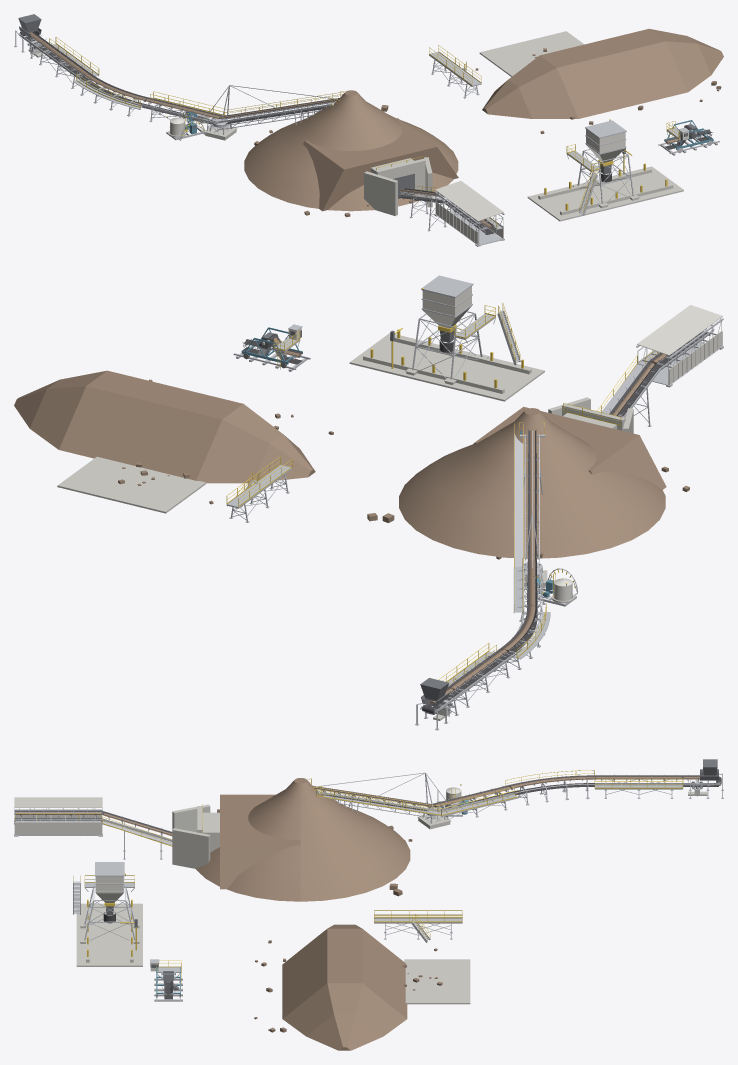
Rendered from ore-processing-and-haulage-plant-stacker-and-stockpile-4a1f44e4.glb.
3 views of the same model, one above another, from view 1: azimuth 30°, elevation 25°; view 2: azimuth 150°, elevation 25°; view 3: azimuth 270°, elevation 25° (orthographic). The views are drawn at different scales.
Parts seen in each view (by area): view 1: 009-product-stockpile/0, 005-coarse-ore-stockpile/0, 006-reclaim-tunnel-entrance/2, 012-truck-loadout/0, 006-reclaim-tunnel-entrance/0, 004-radial-stacker/boom (×3), 007-conveyor-gallery-bridge/5, 012-truck-loadout/2, 009-product-stockpile/1, 007-conveyor-gallery-bridge/0, 012-truck-loadout/3, 011-conveyor-walkway-module/0 (+10 smaller); view 2: 005-coarse-ore-stockpile/0, 009-product-stockpile/0, 012-truck-loadout/0, 009-product-stockpile/1, 006-reclaim-tunnel-entrance/2, 012-truck-loadout/2, 007-conveyor-gallery-bridge/5, 004-radial-stacker/boom, 006-reclaim-tunnel-entrance/0, 012-truck-loadout/3, 011-conveyor-walkway-module/0, 007-conveyor-gallery-bridge/0 (+5 smaller); view 3: 005-coarse-ore-stockpile/0, 009-product-stockpile/0, 006-reclaim-tunnel-entrance/2, 012-truck-loadout/0, 009-product-stockpile/1, 006-reclaim-tunnel-entrance/0, 007-conveyor-gallery-bridge/5, 004-radial-stacker/boom (×2), 012-truck-loadout/2, 011-conveyor-walkway-module/0, 001-conveyor-straight-12m/0, 011-conveyor-walkway-module/1 (+7 smaller).
Part boxes in pixels (x1=…): 009-product-stockpile/0: x1=475, y1=28, x2=723, y2=133; 005-coarse-ore-stockpile/0: x1=244, y1=90, x2=458, y2=217; 006-reclaim-tunnel-entrance/2: x1=303, y1=118, x2=458, y2=211; 012-truck-loadout/0: x1=527, y1=166, x2=683, y2=221; 006-reclaim-tunnel-entrance/0: x1=364, y1=157, x2=432, y2=216; 004-radial-stacker/boom (×3): x1=197, y1=85, x2=345, y2=129; 007-conveyor-gallery-bridge/5: x1=435, y1=181, x2=503, y2=244; 012-truck-loadout/2: x1=566, y1=120, x2=634, y2=215; 009-product-stockpile/1: x1=479, y1=31, x2=584, y2=76; 007-conveyor-gallery-bridge/0: x1=434, y1=191, x2=504, y2=246; 012-truck-loadout/3: x1=586, y1=129, x2=625, y2=162; 011-conveyor-walkway-module/0: x1=429, y1=52, x2=481, y2=98; 005-coarse-ore-stockpile/0: x1=367, y1=408, x2=689, y2=559; 009-product-stockpile/0: x1=14, y1=370, x2=333, y2=504; 012-truck-loadout/0: x1=349, y1=333, x2=544, y2=401; 009-product-stockpile/1: x1=57, y1=456, x2=205, y2=513; 006-reclaim-tunnel-entrance/2: x1=472, y1=362, x2=666, y2=489; 012-truck-loadout/2: x1=412, y1=275, x2=520, y2=379; 007-conveyor-gallery-bridge/5: x1=637, y1=305, x2=722, y2=385; 004-radial-stacker/boom: x1=514, y1=431, x2=545, y2=575; 006-reclaim-tunnel-entrance/0: x1=548, y1=397, x2=633, y2=433; 012-truck-loadout/3: x1=422, y1=286, x2=471, y2=328; 011-conveyor-walkway-module/0: x1=226, y1=465, x2=292, y2=522; 007-conveyor-gallery-bridge/0: x1=636, y1=318, x2=723, y2=387; 005-coarse-ore-stockpile/0: x1=196, y1=778, x2=412, y2=901; 009-product-stockpile/0: x1=254, y1=924, x2=442, y2=1050; 006-reclaim-tunnel-entrance/2: x1=103, y1=794, x2=300, y2=889; 012-truck-loadout/0: x1=76, y1=903, x2=142, y2=966; 009-product-stockpile/1: x1=404, y1=959, x2=470, y2=1004; 006-reclaim-tunnel-entrance/0: x1=172, y1=804, x2=219, y2=868; 007-conveyor-gallery-bridge/5: x1=14, y1=797, x2=102, y2=835; 004-radial-stacker/boom (×2): x1=307, y1=772, x2=458, y2=818; 012-truck-loadout/2: x1=73, y1=862, x2=135, y2=940; 011-conveyor-walkway-module/0: x1=374, y1=917, x2=462, y2=942; 001-conveyor-straight-12m/0: x1=595, y1=774, x2=682, y2=798; 011-conveyor-walkway-module/1: x1=374, y1=910, x2=462, y2=940.
Size of the model in its own units: 84.62 by 11.2 by 96.67.
